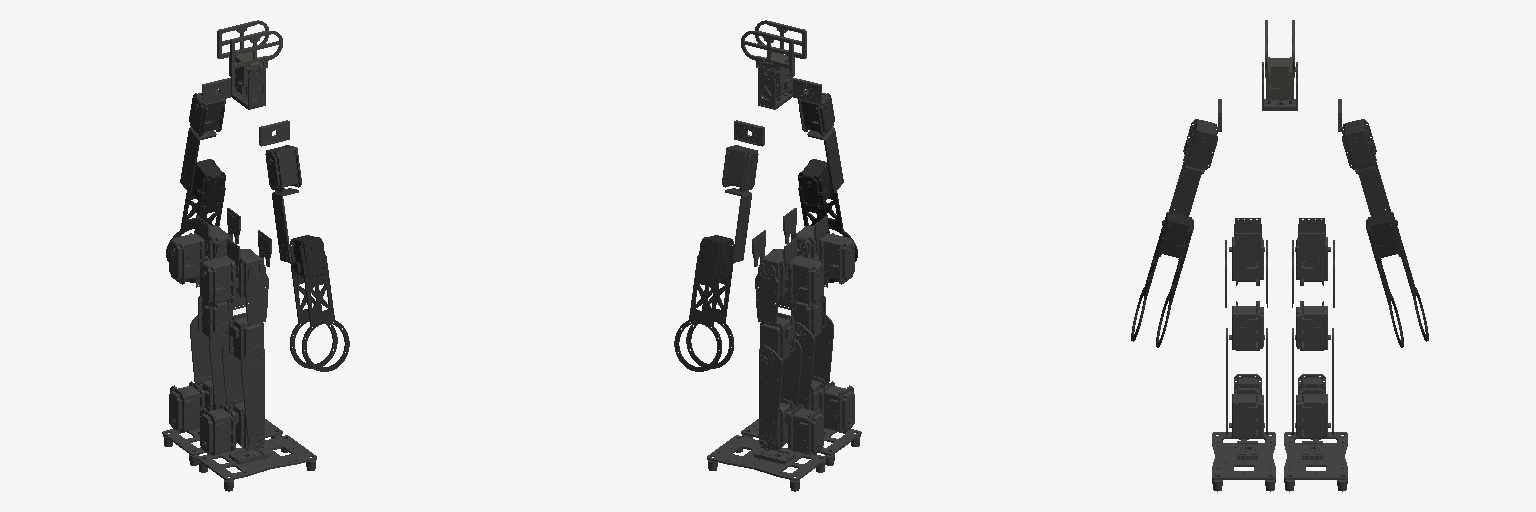
--- What the picture shows (computed from the rendered views, not written in the file) ---
3 views of the same robot in one strip: view 1: azimuth 30°, elevation 25°; view 2: azimuth 150°, elevation 25°; view 3: azimuth 270°, elevation 25° (orthographic).
Robot: sigmaban — 34 links, 33 joints (20 revolute, 13 fixed); root link torso_2023; default pose: every joint at zero.
Links seen in each view (by area): view 1: radius_v2_2, tibia_2023_2, right_foot_, right_knee_2023, head_2023__field_of_view_false, right_humerus, radius_v2, mx106_block_mir_hip__list_mr67plvazplf9a_hip, mx106_block_ankle__list_0bj1pweadmbeeq_default, tibia_2023, left_humerus, mx106_block_hip__list_0bj1pweadmbeeq_hip (+8 smaller); view 2: radius_v2, tibia_2023, left_foot___list_t0v6opd9rekumc_default, left_knee_2023, head_2023__field_of_view_false, left_humerus, radius_v2_2, mx106_block_hip__list_0bj1pweadmbeeq_hip, mx106_block_mir_ankle, tibia_2023_2, right_humerus, mx106_block_mir_hip__list_mr67plvazplf9a_hip (+8 smaller); view 3: left_foot___list_t0v6opd9rekumc_default, right_foot_, left_humerus, right_humerus, radius_v2, radius_v2_2, mx106_block_mir_ankle, mx106_block_ankle__list_0bj1pweadmbeeq_default, left_knee_2023, right_knee_2023, head_2023__field_of_view_false, u_block_2023 (+4 smaller).
Boxes of the visible links, x1,y1,x2,y2 form: radius_v2_2: [290, 235, 349, 371]; tibia_2023_2: [222, 339, 264, 449]; right_foot_: [197, 435, 316, 491]; right_knee_2023: [227, 249, 268, 361]; head_2023__field_of_view_false: [217, 20, 282, 100]; right_humerus: [265, 145, 301, 262]; radius_v2: [166, 159, 225, 282]; mx106_block_mir_hip__list_mr67plvazplf9a_hip: [200, 249, 263, 306]; mx106_block_ankle__list_0bj1pweadmbeeq_default: [200, 398, 258, 455]; tibia_2023: [190, 315, 228, 409]; left_humerus: [180, 89, 225, 192]; mx106_block_hip__list_0bj1pweadmbeeq_hip: [169, 225, 232, 284]; radius_v2: [674, 235, 733, 371]; tibia_2023: [759, 339, 801, 449]; left_foot___list_t0v6opd9rekumc_default: [707, 435, 826, 491]; left_knee_2023: [755, 249, 796, 361]; head_2023__field_of_view_false: [741, 20, 806, 100]; left_humerus: [722, 145, 758, 262]; radius_v2_2: [798, 159, 857, 282]; mx106_block_hip__list_0bj1pweadmbeeq_hip: [760, 249, 823, 306]; mx106_block_mir_ankle: [765, 398, 823, 455]; tibia_2023_2: [795, 315, 833, 409]; right_humerus: [798, 89, 843, 192]; mx106_block_mir_hip__list_mr67plvazplf9a_hip: [791, 225, 854, 284]; left_foot___list_t0v6opd9rekumc_default: [1284, 432, 1347, 491]; right_foot_: [1212, 432, 1275, 491]; left_humerus: [1342, 119, 1390, 216]; right_humerus: [1169, 119, 1217, 216]; radius_v2: [1366, 212, 1428, 347]; radius_v2_2: [1131, 212, 1193, 347]; mx106_block_mir_ankle: [1295, 374, 1330, 438]; mx106_block_ankle__list_0bj1pweadmbeeq_default: [1229, 374, 1264, 438]; left_knee_2023: [1292, 240, 1334, 350]; right_knee_2023: [1225, 240, 1267, 350]; head_2023__field_of_view_false: [1265, 20, 1295, 103]; u_block_2023: [1299, 218, 1324, 263].
Size in the robot's own frame: 0.168 by 0.4293 by 0.7013 metres.
Meshes: 21 distinct files referenced, 20 mesh visuals loaded (20 binary STL); not drawn: 1 (reference not matched to a file when rendering).

robot.urdf — sigmaban:
<robot name="sigmaban">
<mujoco> <compiler fusestatic="false"/> </mujoco>

<link name="torso_2023">
<!-- Shapes for x_plate_23_front -->
<collision>
<origin xyz="0.060389204868665558035 1.4717405121993400189e-07 0.068082299999999984497" rpy="-1.5707963267948958919 1.0318754721533555292e-15 -1.570796326794896558" />
<geometry>
<box size="0.14499999999999999001 0.1155920000000000003 0.0060000000000000001249" />
</geometry>
</collision>
<!-- Shapes for mx-64at_ar -->
<collision>
<origin xyz="0.020939204868665975412 0.046400147174051414867 0.02200000000001074707" rpy="3.1415926535897691352 -1.3138215008622163751e-14 -1.570796326794896336" />
<geometry>
<box size="0.040199999999999999623 0.061100000000000001532 0.041000000000000001721" />
</geometry>
</collision>
<!-- Shapes for mx-64at_ar -->
<collision>
<origin xyz="0.020939204868666350112 -0.046399852825948745272 0.02200000000001099687" rpy="3.1415926535897495953 -1.2771348726224209355e-14 -1.5707963267949036634" />
<geometry>
<box size="0.040199999999999999623 0.061100000000000001532 0.041000000000000001721" />
</geometry>
</collision>
<!-- Shapes for mx-64at_ar -->
<collision>
<origin xyz="0.01583920486865465771 1.471740505627167706e-07 0.15700000000000038924" rpy="-2.0985643641962011544e-15 -2.5607325653630936744e-16 -1.570796326794896558" />
<geometry>
<box size="0.040199999999999999623 0.061100000000000001532 0.041000000000000001721" />
</geometry>
</collision>
<!-- Shapes for x_plate_23_front -->
<collision>
<origin xyz="-0.059610795131336914709 1.4717404883173641263e-07 0.071917699999998543903" rpy="1.5707963267948952257 7.9211561423418466212e-15 1.570796326794896558" />
<geometry>
<box size="0.14499999999999999001 0.1155920000000000003 0.0060000000000000001249" />
</geometry>
</collision>
<!-- Shapes for mx-64at_ar -->
<collision>
<origin xyz="0.010839204868674762183 0.056000147174040608433 0.16400000000000933276" rpy="-1.5707963267948805708 -1.5707963267948898967 0" />
<geometry>
<box size="0.040199999999999999623 0.061100000000000001532 0.041000000000000001721" />
</geometry>
</collision>
<!-- Shapes for mx-64at_ar -->
<collision>
<origin xyz="0.010839204868674713611 -0.055999852825940207857 0.16400000000001024869" rpy="1.5707963267948803487 1.5707963267948898967 0" />
<geometry>
<box size="0.040199999999999999623 0.061100000000000001532 0.041000000000000001721" />
</geometry>
</collision>
<visual>
<origin xyz="0 0 0" rpy="0 -0 0" />
<geometry>
<mesh filename="torso_2023_visual.stl"/>
</geometry>
<material name="torso_2023_material">
<color rgba="0.1989915035131896992 0.20531734779085586418 0.21164319206852200139 1.0"/>
</material>
</visual>
<inertial>
<origin xyz="0.0015648355792355680277 6.7326172377745458603e-05 0.070745013494479591643" rpy="0 0 0"/>
<mass value="3.275156416662882819" />
<inertia ixx="0.019938644668998903309" ixy="0.00017941416398604062153"  ixz="0.00023297474433931533158" iyy="0.018854191811137354512" iyz="-0.00022931010479271859547" izz="0.012649651833892626429" />
</inertial>
</link>

<link name="head_base">
<inertial>
<origin xyz="0 0 0" rpy="0 0 0" />
<mass value="1e-9" />
<inertia ixx="0" ixy="0" ixz="0" iyy="0" iyz="0" izz="0" />
</inertial>
</link>
<joint name="head_base_frame" type="fixed">
<origin xyz="0.033389204868654910607 1.4717405055631460442e-07 0.18300000000001087619" rpy="-1.2246467991473633145e-16 -2.2088105346187814874e-29 1.4393641492882479269e-28" />
<parent link="torso_2023" />
<child link="head_base" />
<axis xyz="0 0 0"/>
</joint>

<link name="trunk">
<inertial>
<origin xyz="0 0 0" rpy="0 0 0" />
<mass value="1e-9" />
<inertia ixx="0" ixy="0" ixz="0" iyy="0" iyz="0" izz="0" />
</inertial>
</link>
<joint name="trunk_frame" type="fixed">
<origin xyz="0.060889204868665502968 1.4717405119935517762e-07 0.0024999999999999996184" rpy="-8.2672622867162037207e-28 -0 -2.2402855000300105724e-59" />
<parent link="torso_2023" />
<child link="trunk" />
<axis xyz="0 0 0"/>
</joint>

<link name="u_neck">
<!-- Shapes for u_side_neck -->
<collision>
<origin xyz="0.024999999999999980571 1.9039197994973640794e-16 0.032901041851021120554" rpy="1.5707963267948976682 3.8555576742675836556e-29 -1.5707963267948958919" />
<geometry>
<box size="0.02999999999999999889 0.065802000000000013258 0.0030000000000000000625" />
</geometry>
</collision>
<!-- Shapes for u_side_neck -->
<collision>
<origin xyz="-0.024999999999999970163 -1.3321288525649692514e-17 0.032901041851021231577" rpy="1.570796326794896558 -1.1537090738856905291e-29 1.5707963267948970021" />
<geometry>
<box size="0.02999999999999999889 0.065802000000000013258 0.0030000000000000000625" />
</geometry>
</collision>
<!-- Shapes for u_base_64 -->
<collision>
<origin xyz="0 0 0.0031250000000000001735" rpy="3.141592653589793116 -0 -2.7345846813906869054e-32" />
<geometry>
<box size="0.049000000000000001887 0.02999999999999999889 0.0062500000000000003469" />
</geometry>
</collision>
<visual>
<origin xyz="0 0 0" rpy="0 -0 0" />
<geometry>
<mesh filename="u_neck_visual.stl"/>
</geometry>
<material name="u_neck_material">
<color rgba="0.30196078431372547213 0.30196078431372547213 0.30196078431372547213 1.0"/>
</material>
</visual>
<inertial>
<origin xyz="4.9752393097228002441e-18 5.2566512831789962461e-17 0.020633402679855913225" rpy="0 0 0"/>
<mass value="0.054479900613359222294" />
<inertia ixx="3.0578702573708504834e-05" ixy="-1.3594422668539657696e-11"  ixz="7.4115382884751279668e-20" iyy="5.1695196768450734476e-05" iyz="-1.3870164511289168052e-20" izz="2.9852490907290876406e-05" />
</inertial>
</link>

<link name="head_2023__field_of_view_false">
<!-- Shapes for head_plate_g_2023 -->
<collision>
<origin xyz="-0.0238000000000099729 0.036500000000010031365 -0.0049999999999899950864" rpy="-3.141592653589793116 9.2835736742051706507e-32 -3.141592653589793116" />
<geometry>
<cylinder length="0.0030000000000000000625" radius="0.023500000000000000056" />
</geometry>
</collision>
<collision>
<origin xyz="0.0099999999999900238135 0.036500000000010031365 -0.0049999999999899950864" rpy="-3.141592653589793116 9.2835736742051706507e-32 -3.141592653589793116" />
<geometry>
<box size="0.061600000000000001976 0.047000000000000000111 0.0030000000000000000625" />
</geometry>
</collision>
<!-- Shapes for head_plate_d_2023 -->
<collision>
<origin xyz="-0.023799999999999973954 0.036499999999999983846 -0.049000000000000001887" rpy="-3.141592653589793116 9.2835736742051706507e-32 -3.141592653589793116" />
<geometry>
<cylinder length="0.0030000000000000000625" radius="0.023500000000000000056" />
</geometry>
</collision>
<collision>
<origin xyz="0.01000000000000002276 0.036499999999999983846 -0.049000000000000001887" rpy="-3.141592653589793116 9.2835736742051706507e-32 -3.141592653589793116" />
<geometry>
<box size="0.061600000000000001976 0.047000000000000000111 0.0030000000000000000625" />
</geometry>
</collision>
<!-- Shapes for mx-64at_ar -->
<collision>
<origin xyz="-6.4717011221295137098e-33 -0.017550000000000003098 -0.023499999999999996586" rpy="-4.0588667713456232966e-32 -9.2835736742051706507e-32 3.6977854932378233042e-32" />
<geometry>
<box size="0.040199999999999999623 0.061100000000000001532 0.041000000000000001721" />
</geometry>
</collision>
<visual>
<origin xyz="0 0 0" rpy="0 -0 0" />
<geometry>
<mesh filename="head_2023__field_of_view_false_visual.stl"/>
</geometry>
<material name="head_2023__field_of_view_false_material">
<color rgba="0.32045575682762950098 0.31487383381853989439 0.29812806479127107462 1.0"/>
</material>
</visual>
<inertial>
<origin xyz="-0.00013983749463300954204 0.0039774654891464892789 -0.023375717796835469853" rpy="0 0 0"/>
<mass value="0.25726509819793869083" />
<inertia ixx="0.00025168424048600053673" ixy="5.0191177966145026165e-06"  ixz="6.2758237416004872282e-07" iyy="0.00010580107060652920782" iyz="3.6478758293029893322e-06" izz="0.00024599473978848055951" />
</inertial>
</link>

<link name="camera">
<inertial>
<origin xyz="0 0 0" rpy="0 0 0" />
<mass value="1e-9" />
<inertia ixx="0" ixy="0" ixz="0" iyy="0" iyz="0" izz="0" />
</inertial>
</link>
<joint name="camera_frame" type="fixed">
<origin xyz="-0.024933000004024159779 0.033500000000055624172 -0.023500000000000024342" rpy="3.1415926535897926719 1.5707963267948934494 0" />
<parent link="head_2023__field_of_view_false" />
<child link="camera" />
<axis xyz="0 0 0"/>
</joint>

<joint name="head_pitch" type="revolute">
<origin xyz="-0.023499999999999954953 -4.8572257327350598644e-17 0.058302041851021751961" rpy="1.570796326794896558 1.1537090738857285042e-29 -1.5707963267949005548" />
<parent link="u_neck" />
<child link="head_2023__field_of_view_false" />
<axis xyz="0 0 1"/>
<limit effort="10" velocity="6" lower="-0.785398163397448279" upper="1.570796326794896558"/>
<joint_properties friction="0.0"/>
</joint>

<joint name="head_yaw" type="revolute">
<origin xyz="0.033389204868654910607 1.4717405055617108527e-07 0.18050000000001084621" rpy="7.2164496600569305242e-16 -2.5607325488194868468e-16 -1.5707963267948958919" />
<parent link="torso_2023" />
<child link="u_neck" />
<axis xyz="0 0 1"/>
<limit effort="10" velocity="6" lower="-2.0943951023931952626" upper="2.0943951023931952626"/>
<joint_properties friction="0.0"/>
</joint>

<link name="u_shoulder_2023">
<!-- Shapes for u_base_64 -->
<collision>
<origin xyz="2.9143354396410359186e-16 2.7755575615628913511e-17 0.0071250000000000037262" rpy="-3.141592653589793116 1.6724317820075083247e-31 -2.4033544272240996515e-33" />
<geometry>
<box size="0.049000000000000001887 0.02999999999999999889 0.0062500000000000003469" />
</geometry>
</collision>
<visual>
<origin xyz="0 0 0" rpy="0 -0 0" />
<geometry>
<mesh filename="u_shoulder_2023_visual.stl"/>
</geometry>
<material name="u_shoulder_2023_material">
<color rgba="0.30196078431372547213 0.30196078431372547213 0.30196078431372547213 1.0"/>
</material>
</visual>
<inertial>
<origin xyz="1.8232168344783914634e-16 0.0036464153452487211779 0.021400275306226044375" rpy="0 0 0"/>
<mass value="0.075104257301521246126" />
<inertia ixx="3.3576612252240278344e-05" ixy="2.45704488381832511e-19"  ixz="-1.0100867896007531543e-19" iyy="5.6855013760483194411e-05" iyz="-1.6441190837762353295e-06" izz="4.5579632407482574292e-05" />
</inertial>
</link>

<link name="left_humerus">
<!-- Shapes for mx-64at_ar -->
<collision>
<origin xyz="5.1535325302692628554e-19 -0.017549999999999187777 -0.02350000000001000941" rpy="1.1349789930214285673e-16 7.4033329793110606974e-29 6.0880324679154251917e-17" />
<geometry>
<box size="0.040199999999999999623 0.061100000000000001532 0.041000000000000001721" />
</geometry>
</collision>
<!-- Shapes for humerus_plate -->
<collision>
<origin xyz="-9.8237390444566585757e-15 -0.10450000000001577471 -0.040000000000000250633" rpy="3.141592653589793116 9.9803458132119403788e-16 -1.5707963267948958919" />
<geometry>
<box size="0.10499999999999999611 0.02999999999999999889 0.0030000000000000000625" />
</geometry>
</collision>
<visual>
<origin xyz="0 0 0" rpy="0 -0 0" />
<geometry>
<mesh filename="left_humerus_visual.stl"/>
</geometry>
<material name="left_humerus_material">
<color rgba="0.26470081700903541622 0.26470081700903541622 0.26470081700903541622 1.0"/>
</material>
</visual>
<inertial>
<origin xyz="0.00034063685431862979203 -0.052268486590341223241 -0.026882157242683241832" rpy="0 0 0"/>
<mass value="0.24350225743978931581" />
<inertia ixx="0.00077073676321792153505" ixy="5.6780808115084161313e-06"  ixz="9.5781652228323994906e-07" iyy="8.4206620691435125122e-05" iyz="-5.8757422747890845406e-05" izz="0.0007520574846905521112" />
</inertial>
</link>

<link name="radius_v2">
<!-- Shapes for hand_2023 -->
<collision>
<origin xyz="2.3106516700011070498e-15 -0.14960000000000389653 -0.042000000000007142731" rpy="8.5789493427633097606e-16 -1.4393969514836101488e-14 -1.5707963267948807928" />
<geometry>
<cylinder length="0.0030000000000000000625" radius="0.040000000000000000833" />
</geometry>
</collision>
<collision>
<origin xyz="9.7418507733165615419e-16 -0.064975600000001590417 -0.042000000000008357037" rpy="8.5789493427633097606e-16 -1.4393969514836101488e-14 -1.5707963267948807928" />
<geometry>
<box size="0.099551199999999992474 0.041200000000000000511 0.0030000000000000000625" />
</geometry>
</collision>
<!-- Shapes for mx-64at_ar -->
<collision>
<origin xyz="2.6328800239494788571e-16 -0.017550000000000356981 -0.023500000000009312051" rpy="-1.4628061606333769143e-14 -1.72913973246405356e-15 -3.3085907960557563128e-24" />
<geometry>
<box size="0.040199999999999999623 0.061100000000000001532 0.041000000000000001721" />
</geometry>
</collision>
<!-- Shapes for hand_2023 -->
<collision>
<origin xyz="2.2343238370581275376e-15 -0.14960000000000436837 -0.0050000000000077760021" rpy="1.5801403290850097167e-15 -1.4137400195363193623e-14 -1.5707963267948807928" />
<geometry>
<cylinder length="0.0030000000000000000625" radius="0.040000000000000000833" />
</geometry>
</collision>
<collision>
<origin xyz="8.9785724466864041907e-16 -0.064975600000000355294 -0.0050000000000089729613" rpy="1.5801403290850097167e-15 -1.4137400195363193623e-14 -1.5707963267948807928" />
<geometry>
<box size="0.099551199999999992474 0.041200000000000000511 0.0030000000000000000625" />
</geometry>
</collision>
<visual>
<origin xyz="0 0 0" rpy="0 -0 0" />
<geometry>
<mesh filename="radius_v2_visual.stl"/>
</geometry>
<material name="radius_v2_material">
<color rgba="0.21421337674205656598 0.21421337674205656598 0.21421337674205656598 1.0"/>
</material>
</visual>
<inertial>
<origin xyz="7.9817140183367828263e-05 -0.055690458705458058264 -0.023433267774075318413" rpy="0 0 0"/>
<mass value="0.25684588818622827722" />
<inertia ixx="0.00093724061814984944117" ixy="-7.9268562208035292056e-07"  ixz="6.139564055294468462e-07" iyy="0.00013059673215064026642" iyz="1.978663300161534759e-06" izz="0.00094705350609366112033" />
</inertial>
</link>

<joint name="left_elbow" type="revolute">
<origin xyz="0.023499999999999049427 -0.14200000000002432898 -0.0024999999999903571579" rpy="1.1420760646645946157e-16 1.5707963267948905628 0" />
<parent link="left_humerus" />
<child link="radius_v2" />
<axis xyz="0 0 1"/>
<limit effort="10" velocity="6" lower="-2.7925268031909271649" upper="0.26179938779914940783"/>
<joint_properties friction="0.0"/>
</joint>

<joint name="left_shoulder_roll" type="revolute">
<origin xyz="0.02350000000000028802 0.030000000000000054401 0.030000000000000012768" rpy="-1.570796326794896336 -1.3089969389957472057 -1.5707963267948781283" />
<parent link="u_shoulder_2023" />
<child link="left_humerus" />
<axis xyz="0 0 1"/>
<limit effort="10" velocity="6" lower="-0.26179938779914940783" upper="1.3089969389957472057"/>
<joint_properties friction="0.0"/>
</joint>

<joint name="left_shoulder_pitch" type="revolute">
<origin xyz="0.02838920486867376608 0.079500147174041552178 0.16400000000000961031" rpy="-1.5707963267948972241 5.4610004281647751681e-16 -1.1318824364894941469e-14" />
<parent link="torso_2023" />
<child link="u_shoulder_2023" />
<axis xyz="0 0 1"/>
<limit effort="10" velocity="6" lower="-2.1816615649929120835" upper="2.1816615649929120835"/>
<joint_properties friction="0.0"/>
</joint>

<link name="u_shoulder_2023_2">
<!-- Shapes for u_base_64 -->
<collision>
<origin xyz="-6.0965844572341306327e-33 2.7755575615629246311e-17 -0.007125000000000017604" rpy="1.0710301291113360143e-28 2.523751638323538339e-31 -2.7117093615639733553e-31" />
<geometry>
<box size="0.049000000000000001887 0.02999999999999999889 0.0062500000000000003469" />
</geometry>
</collision>
<visual>
<origin xyz="0 0 0" rpy="0 -0 0" />
<geometry>
<mesh filename="u_shoulder_2023_2_visual.stl"/>
</geometry>
<material name="u_shoulder_2023_2_material">
<color rgba="0.30196078431372547213 0.30196078431372547213 0.30196078431372547213 1.0"/>
</material>
</visual>
<inertial>
<origin xyz="-8.9096950342566447563e-19 -0.0036464153452484215044 -0.021400275306226186622" rpy="0 0 0"/>
<mass value="0.075104257301521246126" />
<inertia ixx="3.3576612252239986965e-05" ixy="1.3539292266267956982e-20"  ixz="3.5089001584499433968e-21" iyy="5.6855013760483092767e-05" iyz="-1.6441190837762569288e-06" izz="4.557963240748243199e-05" />
</inertial>
</link>

<link name="right_humerus">
<!-- Shapes for humerus_plate -->
<collision>
<origin xyz="-2.2551405187698492227e-17 -0.10450000000000948808 -0.040000000000000042466" rpy="-3.1415926535897922278 9.604334409304415985e-16 -1.5707963267948972241" />
<geometry>
<box size="0.10499999999999999611 0.02999999999999999889 0.0030000000000000000625" />
</geometry>
</collision>
<!-- Shapes for mx-64at_ar -->
<collision>
<origin xyz="1.270652739318305808e-19 -0.017550000000000016975 -0.023499999999999996586" rpy="-1.7916779872509620224e-31 4.9939169036483919336e-31 -3.1007302914032570076e-17" />
<geometry>
<box size="0.040199999999999999623 0.061100000000000001532 0.041000000000000001721" />
</geometry>
</collision>
<visual>
<origin xyz="0 0 0" rpy="0 -0 0" />
<geometry>
<mesh filename="right_humerus_visual.stl"/>
</geometry>
<material name="right_humerus_material">
<color rgba="0.26470081700903541622 0.26470081700903541622 0.26470081700903541622 1.0"/>
</material>
</visual>
<inertial>
<origin xyz="-0.00017225481453279987282 -0.052268486158451560319 -0.026866891908496049607" rpy="0 0 0"/>
<mass value="0.2435022574397892603" />
<inertia ixx="0.0007707618315275926741" ixy="-7.1231336283564645489e-06"  ixz="1.2804627548291555793e-07" iyy="8.4252737154473183556e-05" iyz="-5.8783325637439840319e-05" izz="0.00075207849509710599043" />
</inertial>
</link>

<link name="radius_v2_2">
<!-- Shapes for hand_2023 -->
<collision>
<origin xyz="-1.0189765697887776311e-15 0.14960000000000850395 0.0050000000000102774733" rpy="3.1415926535897917837 1.5636190652210659677e-15 1.5707963267949021091" />
<geometry>
<cylinder length="0.0030000000000000000625" radius="0.040000000000000000833" />
</geometry>
</collision>
<collision>
<origin xyz="-5.6096077782891871578e-16 0.064975600000003658208 0.0050000000000104101797" rpy="3.1415926535897917837 1.5636190652210659677e-15 1.5707963267949021091" />
<geometry>
<box size="0.099551199999999992474 0.041200000000000000511 0.0030000000000000000625" />
</geometry>
</collision>
<!-- Shapes for hand_2023 -->
<collision>
<origin xyz="-8.6636253726624205175e-16 0.14960000000000844844 0.042000000000012110979" rpy="3.1415926535897922278 2.0442758469186439441e-15 1.5707963267949023312" />
<geometry>
<cylinder length="0.0030000000000000000625" radius="0.040000000000000000833" />
</geometry>
</collision>
<collision>
<origin xyz="-3.9190515277449251122e-16 0.064975600000003672085 0.042000000000012284451" rpy="3.1415926535897922278 2.0442758469186439441e-15 1.5707963267949023312" />
<geometry>
<box size="0.099551199999999992474 0.041200000000000000511 0.0030000000000000000625" />
</geometry>
</collision>
<!-- Shapes for mx-64at_ar -->
<collision>
<origin xyz="-1.1970008317875247656e-16 0.017550000000001033523 0.023500000000011313922" rpy="3.1415926535897913396 1.1729299448985399785e-17 3.1428563154296863991e-18" />
<geometry>
<box size="0.040199999999999999623 0.061100000000000001532 0.041000000000000001721" />
</geometry>
</collision>
<visual>
<origin xyz="0 0 0" rpy="0 -0 0" />
<geometry>
<mesh filename="radius_v2_2_visual.stl"/>
</geometry>
<material name="radius_v2_2_material">
<color rgba="0.21421337674205656598 0.21421337674205656598 0.21421337674205656598 1.0"/>
</material>
</visual>
<inertial>
<origin xyz="7.981714018216070467e-05 0.055690458705459910949 0.023433267774077819884" rpy="0 0 0"/>
<mass value="0.25684588818622816619" />
<inertia ixx="0.0009372406181499015913" ixy="7.9268562209457862715e-07"  ixz="-6.1395640552935060209e-07" iyy="0.00013059673215065002424" iyz="1.9786633001541312675e-06" izz="0.00094705350609373321977" />
</inertial>
</link>

<joint name="right_elbow" type="revolute">
<origin xyz="-0.02350000000000931899 -0.14200000000001897216 -0.0024999999999904057302" rpy="-3.141592653589793116 -1.5707963267948936714 0" />
<parent link="right_humerus" />
<child link="radius_v2_2" />
<axis xyz="0 0 1"/>
<limit effort="10" velocity="6" lower="-2.7925268031909271649" upper="0.26179938779914940783"/>
<joint_properties friction="0.0"/>
</joint>

<joint name="right_shoulder_roll" type="revolute">
<origin xyz="-0.023499999999989990701 -0.029999999999999943379 -0.030000000000000026645" rpy="1.570796326794896558 -1.3089969389957472057 -1.5707963267948921171" />
<parent link="u_shoulder_2023_2" />
<child link="right_humerus" />
<axis xyz="0 0 1"/>
<limit effort="10" velocity="6" lower="-1.3089969389957472057" upper="0.26179938779914940783"/>
<joint_properties friction="0.0"/>
</joint>

<joint name="right_shoulder_pitch" type="revolute">
<origin xyz="0.028389204868675101817 -0.079499852825939923417 0.16400000000001035971" rpy="1.5707963267914575312 6.7723604502158104352e-15 -3.1415926535897766847" />
<parent link="torso_2023" />
<child link="u_shoulder_2023_2" />
<axis xyz="0 0 1"/>
<limit effort="10" velocity="6" lower="-2.1816615649929120835" upper="2.1816615649929120835"/>
<joint_properties friction="0.0"/>
</joint>

<link name="u_block_2023">
<!-- Shapes for u_side_small_2023 -->
<collision>
<origin xyz="-0.031440000000000002667 0 -0.023750000000000010686" rpy="1.570796326794896558 1.5375480027067150408e-30 1.570796326794896558" />
<geometry>
<box size="0.037499999999999998612 0.047500000000000000555 0.0030000000000000000625" />
</geometry>
</collision>
<!-- Shapes for u_side_small_with_trace_2023 -->
<collision>
<origin xyz="0.021899999999999981981 6.9388939039072283776e-18 -0.023750000000000014155" rpy="-1.570796326794896558 4.7733392390613801031e-30 -1.5707963267948970021" />
<geometry>
<box size="0.037499999999999998612 0.047500000000000000555 0.0030000000000000000625" />
</geometry>
</collision>
<visual>
<origin xyz="0 0 0" rpy="0 -0 0" />
<geometry>
<mesh filename="u_block_2023_visual.stl"/>
</geometry>
<material name="u_block_2023_material">
<color rgba="0.30196078431372552764 0.30196078431372552764 0.30196078431372552764 1.0"/>
</material>
</visual>
<inertial>
<origin xyz="-0.0050953192241065571599 -8.4419506225231468697e-07 -0.0098513101413465805484" rpy="0 0 0"/>
<mass value="0.063013635376408722033" />
<inertia ixx="2.0269428345457467326e-05" ixy="1.5200724677905147079e-09"  ixz="-2.023932140462646351e-06" iyy="4.242656866493677134e-05" iyz="-2.0044169173988357712e-09" izz="3.5257506291535481555e-05" />
</inertial>
</link>

<link name="mx106_block_hip__list_0bj1pweadmbeeq_hip">
<!-- Shapes for mx106 -->
<collision>
<origin xyz="6.9388939039072245258e-18 -0.018050000000000003542 -0.025999999999999998807" rpy="4.4232993409402326246e-31 -1.0829362358345484462e-30 -1.5003599116030702926e-33" />
<geometry>
<box size="0.040199999999999999623 0.065099999999999991207 0.045999999999999999223" />
</geometry>
</collision>
<!-- Shapes for mx106 -->
<collision>
<origin xyz="-5.587197371426131568e-16 -0.018050000000003129513 0.023400000000023360447" rpy="4.5186077102243625071e-14 1.5707963267948559238 0" />
<geometry>
<box size="0.040199999999999999623 0.065099999999999991207 0.045999999999999999223" />
</geometry>
</collision>
<visual>
<origin xyz="0 0 0" rpy="0 -0 0" />
<geometry>
<mesh filename="mx106_block_hip__list_0bj1pweadmbeeq_hip_visual.stl"/>
</geometry>
<material name="mx106_block_hip__list_0bj1pweadmbeeq_hip_material">
<color rgba="0.30196078431372547213 0.30196078431372547213 0.30196078431372547213 1.0"/>
</material>
</visual>
<inertial>
<origin xyz="-0.00052516692186616454729 -0.015396401985203245905 0.0038277888729035540634" rpy="0 0 0"/>
<mass value="0.39709667579512258895" />
<inertia ixx="0.00042858306123093477778" ixy="2.0805509671368810993e-06"  ixz="4.1041475610358611124e-06" iyy="0.00037079320782765960805" iyz="-3.1142636673186421933e-05" izz="0.00018178880431223535955" />
</inertial>
</link>

<link name="left_knee_2023">
<!-- Shapes for mx106 -->
<collision>
<origin xyz="1.4913596831999887702e-16 0.12195000000002188811 -0.029500000000001705414" rpy="-1.2212453270869762219e-15 3.64326624424644987e-14 8.8149932579980472257e-15" />
<geometry>
<box size="0.040199999999999999623 0.065099999999999991207 0.045999999999999999223" />
</geometry>
</collision>
<!-- Shapes for u_side_femur_mir_2023 -->
<collision>
<origin xyz="7.3160900016631066617e-16 0.037249999999999887368 -0.056999999999998170186" rpy="3.1415926535897678029 8.0383616429810889004e-14 4.6345982414074165367e-14" />
<geometry>
<box size="0.02999999999999999889 0.096500000000000002442 0.0030000000000000000625" />
</geometry>
</collision>
<!-- Shapes for u_side_femur_2023 -->
<collision>
<origin xyz="4.3368086899420292916e-19 0.037250000000000005329 0.0015000000000000026333" rpy="0 -1.4191589699425682925e-32 0" />
<geometry>
<box size="0.02999999999999999889 0.096500000000000002442 0.0030000000000000000625" />
</geometry>
</collision>
<visual>
<origin xyz="0 0 0" rpy="0 -0 0" />
<geometry>
<mesh filename="left_knee_2023_visual.stl"/>
</geometry>
<material name="left_knee_2023_material">
<color rgba="0.30196078431372547213 0.30196078431372547213 0.30196078431372547213 1.0"/>
</material>
</visual>
<inertial>
<origin xyz="-3.0494550053121577383e-05 0.10061564187093975653 -0.029622786648481010119" rpy="0 0 0"/>
<mass value="0.26847272690346352109" />
<inertia ixx="0.00053925645022024357514" ixy="-1.3631373190137804101e-07"  ixz="5.8241303226778181552e-09" iyy="0.00012289105714449451243" iyz="1.5058327493549626962e-05" izz="0.00046181552279401692166" />
</inertial>
</link>

<link name="tibia_2023">
<!-- Shapes for tibia_plate_2023 -->
<collision>
<origin xyz="-0.0062131000000000009137 0.068950999999999998402 0.0015000000000000026333" rpy="-3.141592653589793116 1.4713170045275157975e-31 3.141592653589793116" />
<geometry>
<box size="0.04042620000000000241 0.1700990000000000002 0.0030000000000000000625" />
</geometry>
</collision>
<!-- Shapes for tibia_plate_2023 -->
<collision>
<origin xyz="-0.0062131000000001275485 0.068951000000002274359 -0.055939999999999795444" rpy="3.141592653589793116 2.953628240564971051e-31 -3.141592653589793116" />
<geometry>
<box size="0.04042620000000000241 0.1700990000000000002 0.0030000000000000000625" />
</geometry>
</collision>
<visual>
<origin xyz="0 0 0" rpy="0 -0 0" />
<geometry>
<mesh filename="tibia_2023_visual.stl"/>
</geometry>
<material name="tibia_2023_material">
<color rgba="0.30196078431372547213 0.30196078431372547213 0.30196078431372547213 1.0"/>
</material>
</visual>
<inertial>
<origin xyz="-0.0029619942214337505876 0.06314054434257244941 -0.026839813800166509999" rpy="0 0 0"/>
<mass value="0.11307719724589511412" />
<inertia ixx="0.00035180943614669511364" ixy="-6.4923421817825492723e-06"  ixz="2.0403709312578429582e-08" iyy="0.00010391794921028493206" iyz="-6.1996439046809369065e-08" izz="0.00027164029097416139951" />
</inertial>
</link>

<link name="mx106_block_mir_ankle">
<!-- Shapes for mx106 -->
<collision>
<origin xyz="-2.4835481882836499138e-15 0.018050000000000225586 -0.028500000000006839307" rpy="-1.0530465392209247395e-13 -2.3567953144620554086e-14 3.1415926535897851224" />
<geometry>
<box size="0.040199999999999999623 0.065099999999999991207 0.045999999999999999223" />
</geometry>
</collision>
<!-- Shapes for mx106 -->
<collision>
<origin xyz="0.049400000000019511637 0.018050000000001779898 -0.028500000000009691192" rpy="-3.1415926535897917837 1.5707963267948958919 0" />
<geometry>
<box size="0.040199999999999999623 0.065099999999999991207 0.045999999999999999223" />
</geometry>
</collision>
<visual>
<origin xyz="0 0 0" rpy="0 -0 0" />
<geometry>
<mesh filename="mx106_block_mir_ankle_visual.stl"/>
</geometry>
<material name="mx106_block_mir_ankle_material">
<color rgba="0.30196078431372547213 0.30196078431372547213 0.30196078431372547213 1.0"/>
</material>
</visual>
<inertial>
<origin xyz="0.019569546325788379076 0.015396401985194102177 -0.02902744472631435535" rpy="0 0 0"/>
<mass value="0.39709667579512264446" />
<inertia ixx="0.00018178785236498012402" ixy="-3.1147027124168096901e-05"  ixz="-4.0741771018149064068e-06" iyy="0.00037083367389992462479" iyz="-2.0892224411081638081e-06" izz="0.00042862447925065604113" />
</inertial>
</link>

<link name="left_foot___list_t0v6opd9rekumc_default">
<!-- Shapes for cleat -->
<collision>
<origin xyz="0.043500000000002883582 -0.053500000000002705114 -0.032129999999995370596" rpy="1.5707963267948901187 -2.9167640525074148081e-14 -3.8626551028816556689e-14" />
<geometry>
<cylinder length="0.016000000000000000333" radius="0.0080000000000000001665" />
</geometry>
</collision>
<!-- Shapes for u_base_motors_blocs -->
<collision>
<origin xyz="1.4571677198205179593e-15 -0.03687500000000079603 0.028170000000003289631" rpy="1.5707963267949351938 1.570796326794866804 0" />
<geometry>
<box size="0.052340000000000004576 0.02999999999999999889 0.0062500000000000003469" />
</geometry>
</collision>
<!-- Shapes for cleat -->
<collision>
<origin xyz="-0.032499999999997551681 -0.053499999999999818534 -0.032129999999997493898" rpy="1.5707963267948901187 -2.9167640525074148081e-14 -3.8626551028816556689e-14" />
<geometry>
<cylinder length="0.016000000000000000333" radius="0.0080000000000000001665" />
</geometry>
</collision>
<!-- Shapes for cleat -->
<collision>
<origin xyz="0.043499999999998789635 -0.053500000000001872447 0.10947000000000448039" rpy="-1.5707963267948901187 2.9167640525074148081e-14 3.1415926535897544802" />
<geometry>
<cylinder length="0.016000000000000000333" radius="0.0080000000000000001665" />
</geometry>
</collision>
<!-- Shapes for foot_plate -->
<collision>
<origin xyz="0.0055000000000009164822 -0.041500000000000925038 0.038670000000003486307" rpy="-1.5707963267949029973 -2.9122537714698807895e-14 -3.862655106405614715e-14" />
<geometry>
<box size="0.091999999999999998446 0.1575999999999999901 0.0030000000000000000625" />
</geometry>
</collision>
<!-- Shapes for cleat -->
<collision>
<origin xyz="-0.032500000000001520728 -0.053499999999998930356 0.10947000000000238484" rpy="-1.5707963267948901187 2.9167640525074148081e-14 3.1415926535897544802" />
<geometry>
<cylinder length="0.016000000000000000333" radius="0.0080000000000000001665" />
</geometry>
</collision>
<visual>
<origin xyz="0 0 0" rpy="0 -0 0" />
<geometry>
<mesh filename="left_foot___list_t0v6opd9rekumc_default_visual.stl"/>
</geometry>
<material name="left_foot___list_t0v6opd9rekumc_default_material">
<color rgba="0.30196078431372547213 0.30093481115542580762 0.2985408737860601458 1.0"/>
</material>
</visual>
<inertial>
<origin xyz="0.0045444467896919357036 -0.036554210534013815981 0.046646141434125931724" rpy="0 0 0"/>
<mass value="0.28185582496698080579" />
<inertia ixx="0.00071822426056174183337" ixy="2.5091093396115026619e-06"  ixz="-4.6415033481459236795e-06" iyy="0.00092244501368009279314" iyz="-1.4353691871045097886e-05" izz="0.00026531274718818537118" />
</inertial>
</link>

<link name="left_foot">
<inertial>
<origin xyz="0 0 0" rpy="0 0 0" />
<mass value="1e-9" />
<inertia ixx="0" ixy="0" ixz="0" iyy="0" iyz="0" izz="0" />
</inertial>
</link>
<joint name="left_foot_frame" type="fixed">
<origin xyz="0.003000000000001674938 -0.061500000000000831779 0.036170000000003560414" rpy="-1.5707963267949325292 -1.570796326794866804 0" />
<parent link="left_foot___list_t0v6opd9rekumc_default" />
<child link="left_foot" />
<axis xyz="0 0 0"/>
</joint>

<link name="left_ps_0">
<inertial>
<origin xyz="0 0 0" rpy="0 0 0" />
<mass value="1e-9" />
<inertia ixx="0" ixy="0" ixz="0" iyy="0" iyz="0" izz="0" />
</inertial>
</link>
<joint name="left_ps_0_frame" type="fixed">
<origin xyz="-0.032500000000001291744 -0.061499999999999999112 0.10947000000000527142" rpy="-1.5707963267949425212 -1.570796326794866804 0" />
<parent link="left_foot___list_t0v6opd9rekumc_default" />
<child link="left_ps_0" />
<axis xyz="0 0 0"/>
</joint>

<link name="left_ps_1">
<inertial>
<origin xyz="0 0 0" rpy="0 0 0" />
<mass value="1e-9" />
<inertia ixx="0" ixy="0" ixz="0" iyy="0" iyz="0" izz="0" />
</inertial>
</link>
<joint name="left_ps_1_frame" type="fixed">
<origin xyz="-0.032499999999997197797 -0.061500000000000942801 -0.032129999999995828563" rpy="-1.5707963267949387465 -1.570796326794866804 0" />
<parent link="left_foot___list_t0v6opd9rekumc_default" />
<child link="left_ps_1" />
<axis xyz="0 0 0"/>
</joint>

<link name="left_ps_2">
<inertial>
<origin xyz="0 0 0" rpy="0 0 0" />
<mass value="1e-9" />
<inertia ixx="0" ixy="0" ixz="0" iyy="0" iyz="0" izz="0" />
</inertial>
</link>
<joint name="left_ps_2_frame" type="fixed">
<origin xyz="0.043500000000002099487 -0.06150000000000377387 -0.032129999999993760773" rpy="-1.5707963267949387465 -1.570796326794866804 0" />
<parent link="left_foot___list_t0v6opd9rekumc_default" />
<child link="left_ps_2" />
<axis xyz="0 0 0"/>
</joint>

<link name="left_ps_3">
<inertial>
<origin xyz="0 0 0" rpy="0 0 0" />
<mass value="1e-9" />
<inertia ixx="0" ixy="0" ixz="0" iyy="0" iyz="0" izz="0" />
</inertial>
</link>
<joint name="left_ps_3_frame" type="fixed">
<origin xyz="0.043499999999997894518 -0.061500000000002830181 0.10947000000000735309" rpy="-1.5707963267949436315 -1.570796326794866804 0" />
<parent link="left_foot___list_t0v6opd9rekumc_default" />
<child link="left_ps_3" />
<axis xyz="0 0 0"/>
</joint>

<joint name="left_ankle_roll" type="revolute">
<origin xyz="0.023400000000019464258 1.7763568394002504647e-15 -0.028500000000009864665" rpy="-1.3731090952941476011e-15 -1.5707963267948954478 0" />
<parent link="mx106_block_mir_ankle" />
<child link="left_foot___list_t0v6opd9rekumc_default" />
<axis xyz="0 0 1"/>
<limit effort="10" velocity="6" lower="-0.785398163397448279" upper="0.785398163397448279"/>
<joint_properties friction="0.0"/>
</joint>

<joint name="left_ankle_pitch" type="revolute">
<origin xyz="1.3877787807814456755e-17 0.14000000000000001332 1.3877787807814456755e-17" rpy="-4.5044050613495349813e-16 1.7248535108951566065e-30 3.141592653589793116" />
<parent link="tibia_2023" />
<child link="mx106_block_mir_ankle" />
<axis xyz="0 0 1"/>
<limit effort="10" velocity="6" lower="-1.570796326794896558" upper="1.570796326794896558"/>
<joint_properties friction="0.0"/>
</joint>

<joint name="left_knee" type="revolute">
<origin xyz="7.6197728682281251622e-16 0.14000000000002149614 -0.00099999999999096644832" rpy="-3.3306690077040597037e-16 1.8197249262996517094e-14 4.266444745766884715e-15" />
<parent link="left_knee_2023" />
<child link="tibia_2023" />
<axis xyz="0 0 1"/>
<limit effort="10" velocity="6" lower="-0" upper="3.141592653589793116"/>
<joint_properties friction="0.0"/>
</joint>

<joint name="left_hip_pitch" type="revolute">
<origin xyz="0.029500000000009969636 1.5820678100908480701e-15 0.023400000000016792784" rpy="3.1415926535897451544 -1.5707963267948954478 0" />
<parent link="mx106_block_hip__list_0bj1pweadmbeeq_hip" />
<child link="left_knee_2023" />
<axis xyz="0 0 1"/>
<limit effort="10" velocity="6" lower="-1.570796326794896558" upper="1.570796326794896558"/>
<joint_properties friction="0.0"/>
</joint>

<joint name="left_hip_roll" type="revolute">
<origin xyz="0.023399999999999983313 0 -0.040000000000000021649" rpy="1.570796326794896558 -4.8039640370581368107e-14 -1.5707963267949467401" />
<parent link="u_block_2023" />
<child link="mx106_block_hip__list_0bj1pweadmbeeq_hip" />
<axis xyz="0 0 1"/>
<limit effort="10" velocity="6" lower="-0.52359877559829881566" upper="0.61086523819801530344"/>
<joint_properties friction="0.0"/>
</joint>

<joint name="left_hip_yaw" type="revolute">
<origin xyz="0.0033892048686650078082 0.046400147174060754618 -0.021000000000001697864" rpy="4.8006866350193497818e-14 1.5262888187140617583e-14 -3.1415926535897269467" />
<parent link="torso_2023" />
<child link="u_block_2023" />
<axis xyz="0 0 1"/>
<limit effort="10" velocity="6" lower="-1.0471975511965976313" upper="1.0471975511965976313"/>
<joint_properties friction="0.0"/>
</joint>

<link name="u_block_2023_2">
<!-- Shapes for u_side_small_2023 -->
<collision>
<origin xyz="-0.031440000000000016545 -4.4408920985006261617e-16 -0.023750000000000093953" rpy="1.570796326794896558 6.2302052208490232145e-29 1.570796326794896558" />
<geometry>
<box size="0.037499999999999998612 0.047500000000000000555 0.0030000000000000000625" />
</geometry>
</collision>
<!-- Shapes for u_side_small_with_trace_2023 -->
<collision>
<origin xyz="0.021900000000000009737 -7.2858385991025897965e-17 -0.023750000000000003747" rpy="-1.570796326794896558 -2.3900689497800325527e-28 -1.5707963267948954478" />
<geometry>
<box size="0.037499999999999998612 0.047500000000000000555 0.0030000000000000000625" />
</geometry>
</collision>
<visual>
<origin xyz="0 0 0" rpy="0 -0 0" />
<geometry>
<mesh filename="u_block_2023_2_visual.stl"/>
</geometry>
<material name="u_block_2023_2_material">
<color rgba="0.30196078431372552764 0.30196078431372552764 0.30196078431372552764 1.0"/>
</material>
</visual>
<inertial>
<origin xyz="-0.0050953192241065866502 -8.4419506236626306475e-07 -0.0098513101413465978956" rpy="0 0 0"/>
<mass value="0.063013635376408722033" />
<inertia ixx="2.0269428345457751929e-05" ixy="1.5200724676722477326e-09"  ixz="-2.0239321404627314779e-06" iyy="4.2426568664937096601e-05" iyz="-2.0044169174507363915e-09" izz="3.525750629153567129e-05" />
</inertial>
</link>

<link name="mx106_block_mir_hip__list_mr67plvazplf9a_hip">
<!-- Shapes for mx106 -->
<collision>
<origin xyz="-7.4674271126216997816e-36 -0.018050000000000007011 -0.025999999999999995337" rpy="-3.7507374077580842329e-31 -9.4629504151230498367e-32 6.120941986080199262e-32" />
<geometry>
<box size="0.040199999999999999623 0.065099999999999991207 0.045999999999999999223" />
</geometry>
</collision>
<!-- Shapes for mx106 -->
<collision>
<origin xyz="2.2656388159760541343e-15 -0.01804999999999988558 0.023400000000012195767" rpy="1.5720758028692198942e-13 -1.5707963267948590325 0" />
<geometry>
<box size="0.040199999999999999623 0.065099999999999991207 0.045999999999999999223" />
</geometry>
</collision>
<visual>
<origin xyz="0 0 0" rpy="0 -0 0" />
<geometry>
<mesh filename="mx106_block_mir_hip__list_mr67plvazplf9a_hip_visual.stl"/>
</geometry>
<material name="mx106_block_mir_hip__list_mr67plvazplf9a_hip_material">
<color rgba="0.30196078431372547213 0.30196078431372547213 0.30196078431372547213 1.0"/>
</material>
</visual>
<inertial>
<origin xyz="0.00052744471950870940816 -0.015396401985192934708 0.0038306435570964812547" rpy="0 0 0"/>
<mass value="0.39709667579512253344" />
<inertia ixx="0.00042862743154850450628" ixy="-2.0892223995381237207e-06"  ixz="-4.0720577259059815783e-06" iyy="0.00037083662634951943546" iyz="-3.1148188041904293559e-05" izz="0.00018178785251672928847" />
</inertial>
</link>

<link name="right_knee_2023">
<!-- Shapes for u_side_femur_2023 -->
<collision>
<origin xyz="-1.2523106465936289283e-32 -0.037250000000000005329 -0.0015000000000000021996" rpy="3.141592653589793116 1.1020642437898762828e-29 3.0330127149397062781e-31" />
<geometry>
<box size="0.02999999999999999889 0.096500000000000002442 0.0030000000000000000625" />
</geometry>
</collision>
<!-- Shapes for u_side_femur_mir_2023 -->
<collision>
<origin xyz="2.3679700851343809601e-15 -0.037249999999998291422 0.057000000000000765332" rpy="-1.5521415202872817398e-14 4.3139103400591232513e-14 -2.7929047963232021583e-15" />
<geometry>
<box size="0.02999999999999999889 0.096500000000000002442 0.0030000000000000000625" />
</geometry>
</collision>
<!-- Shapes for mx106 -->
<collision>
<origin xyz="3.2510248832152038083e-16 -0.12195000000002542695 0.029499999999993274657" rpy="-3.1415926535897722438 3.1467883854219425843e-14 3.4635488921353952811e-14" />
<geometry>
<box size="0.040199999999999999623 0.065099999999999991207 0.045999999999999999223" />
</geometry>
</collision>
<visual>
<origin xyz="0 0 0" rpy="0 -0 0" />
<geometry>
<mesh filename="right_knee_2023_visual.stl"/>
</geometry>
<material name="right_knee_2023_material">
<color rgba="0.30196078431372541662 0.30196078431372541662 0.30196078431372541662 1.0"/>
</material>
</visual>
<inertial>
<origin xyz="-3.0494550052434799681e-05 -0.10061564187094176881 0.029608941233490337908" rpy="0 0 0"/>
<mass value="0.26847272690346346558" />
<inertia ixx="0.00053925731157976092463" ixy="1.3631373190071542302e-07"  ixz="-5.7107785364412577752e-09" iyy="0.00012289191850397730298" iyz="1.5089609413220713563e-05" izz="0.00046181552279405080298" />
</inertial>
</link>

<link name="tibia_2023_2">
<!-- Shapes for tibia_plate_2023 -->
<collision>
<origin xyz="-0.0062130999999911512219 0.068950999999997167333 0.055939999999994008406" rpy="-3.141592653589733164 -3.3029134982598432321e-14 -3.1415926535897917837" />
<geometry>
<box size="0.04042620000000000241 0.1700990000000000002 0.0030000000000000000625" />
</geometry>
</collision>
<!-- Shapes for tibia_plate_2023 -->
<collision>
<origin xyz="-0.0062131000000000009137 0.068951000000000040036 -0.0015000000000000004649" rpy="-3.141592653589793116 7.2105090570174107409e-30 3.141592653589793116" />
<geometry>
<box size="0.04042620000000000241 0.1700990000000000002 0.0030000000000000000625" />
</geometry>
</collision>
<visual>
<origin xyz="0 0 0" rpy="0 -0 0" />
<geometry>
<mesh filename="tibia_2023_2_visual.stl"/>
</geometry>
<material name="tibia_2023_2_material">
<color rgba="0.30196078431372547213 0.30196078431372547213 0.30196078431372547213 1.0"/>
</material>
</visual>
<inertial>
<origin xyz="-0.0029619908404728469836 0.063140565164623296823 0.02683982313489245014" rpy="0 0 0"/>
<mass value="0.11307719724589511412" />
<inertia ixx="0.00035180944356699760459" ixy="-6.4923416167470600363e-06"  ixz="-2.0382960514664992692e-08" iyy="0.00010391794947023660597" iyz="6.2118917254755235858e-08" izz="0.00027164029740908127077" />
</inertial>
</link>

<link name="mx106_block_ankle__list_0bj1pweadmbeeq_default">
<!-- Shapes for mx106 -->
<collision>
<origin xyz="2.6020852139652078683e-17 -0.018050000000000059053 0.028500000000009934054" rpy="-3.141592653589793116 3.6923810532281155798e-30 3.141592653589793116" />
<geometry>
<box size="0.040199999999999999623 0.065099999999999991207 0.045999999999999999223" />
</geometry>
</collision>
<!-- Shapes for mx106 -->
<collision>
<origin xyz="-0.049400000000020066748 -0.018050000000000065992 0.028500000000009961809" rpy="-9.2644238962482660418e-23 1.570796326794896558 0" />
<geometry>
<box size="0.040199999999999999623 0.065099999999999991207 0.045999999999999999223" />
</geometry>
</collision>
<visual>
<origin xyz="0 0 0" rpy="0 -0 0" />
<geometry>
<mesh filename="mx106_block_ankle__list_0bj1pweadmbeeq_default_visual.stl"/>
</geometry>
<material name="mx106_block_ankle__list_0bj1pweadmbeeq_default_material">
<color rgba="0.30196078431372547213 0.30196078431372547213 0.30196078431372547213 1.0"/>
</material>
</visual>
<inertial>
<origin xyz="-0.019572401009989255638 -0.015396401985201096582 0.029025166915077664498" rpy="0 0 0"/>
<mass value="0.39709667579512258895" />
<inertia ixx="0.0001817888044639689657" ixy="-3.114147575544976449e-05"  ixz="-4.1062666594566306371e-06" iyy="0.00037079025525090582608" iyz="-2.080550925575799656e-06" izz="0.0004285801085024416434" />
</inertial>
</link>

<link name="right_foot_">
<!-- Shapes for u_base_motors_blocs -->
<collision>
<origin xyz="3.2092384305570931247e-16 -0.036875000000001469103 0.028170000000003178608" rpy="1.5707963267949054398 1.570796326794841713 0" />
<geometry>
<box size="0.052340000000000004576 0.02999999999999999889 0.0062500000000000003469" />
</geometry>
</collision>
<!-- Shapes for cleat -->
<collision>
<origin xyz="-0.043499999999999268419 -0.05349999999999777156 -0.03212999999999829881" rpy="1.5707963267949540676 -7.1539996149285102295e-15 -8.1771603261397814136e-15" />
<geometry>
<cylinder length="0.016000000000000000333" radius="0.0080000000000000001665" />
</geometry>
</collision>
<!-- Shapes for foot_plate -->
<collision>
<origin xyz="-0.005499999999999791514 -0.041500000000002035261 0.038670000000002889562" rpy="-1.5707963267948399366 -7.9797279894934909169e-15 -8.9151391897941823389e-15" />
<geometry>
<box size="0.091999999999999998446 0.1575999999999999901 0.0030000000000000000625" />
</geometry>
</collision>
<!-- Shapes for cleat -->
<collision>
<origin xyz="0.032500000000000771327 -0.053499999999998382183 -0.03212999999999785472" rpy="1.5707963267949540676 -7.1539996149285102295e-15 -8.1771603261397814136e-15" />
<geometry>
<cylinder length="0.016000000000000000333" radius="0.0080000000000000001665" />
</geometry>
</collision>
<!-- Shapes for cleat -->
<collision>
<origin xyz="-0.043500000000000350886 -0.053500000000005654144 0.10947000000000201014" rpy="-1.5707963267949540676 7.1539996149284928746e-15 3.1415926535897851224" />
<geometry>
<cylinder length="0.016000000000000000333" radius="0.0080000000000000001665" />
</geometry>
</collision>
<!-- Shapes for cleat -->
<collision>
<origin xyz="0.032499999999999605593 -0.053500000000006320278 0.1094700000000025375" rpy="-1.5707963267949540676 7.1539996149284928746e-15 3.1415926535897851224" />
<geometry>
<cylinder length="0.016000000000000000333" radius="0.0080000000000000001665" />
</geometry>
</collision>
<visual>
<origin xyz="0 0 0" rpy="0 -0 0" />
<geometry>
<mesh filename="right_foot__visual.stl"/>
</geometry>
<material name="right_foot__material">
<color rgba="0.30196078431372541662 0.3009348111554257521 0.29854087378606020131 1.0"/>
</material>
</visual>
<inertial>
<origin xyz="-0.0045443948701719416583 -0.036554210534015411926 0.046646141434125543146" rpy="0 0 0"/>
<mass value="0.2818558249669808613" />
<inertia ixx="0.00071822426056174313441" ixy="-2.5093325733320646032e-06"  ixz="4.6417350201812976015e-06" iyy="0.00092244498505176370211" iyz="-1.4353691871003647481e-05" izz="0.00026531271855985042547" />
</inertial>
</link>

<link name="right_foot">
<inertial>
<origin xyz="0 0 0" rpy="0 0 0" />
<mass value="1e-9" />
<inertia ixx="0" ixy="0" ixz="0" iyy="0" iyz="0" izz="0" />
</inertial>
</link>
<joint name="right_foot_frame" type="fixed">
<origin xyz="-0.0029999999999994059197 -0.061500000000001553424 0.03617000000000183263" rpy="-1.5707963267949054398 -1.5707963267948401587 0" />
<parent link="right_foot_" />
<child link="right_foot" />
<axis xyz="0 0 0"/>
</joint>

<link name="right_ps_0">
<inertial>
<origin xyz="0 0 0" rpy="0 0 0" />
<mass value="1e-9" />
<inertia ixx="0" ixy="0" ixz="0" iyy="0" iyz="0" izz="0" />
</inertial>
</link>
<joint name="right_ps_0_frame" type="fixed">
<origin xyz="-0.043500000000000392519 -0.061500000000005605738 0.10947000000000157993" rpy="-1.5707963267949072161 -1.5707963267948401587 0" />
<parent link="right_foot_" />
<child link="right_ps_0" />
<axis xyz="0 0 0"/>
</joint>

<link name="right_ps_1">
<inertial>
<origin xyz="0 0 0" rpy="0 0 0" />
<mass value="1e-9" />
<inertia ixx="0" ixy="0" ixz="0" iyy="0" iyz="0" izz="0" />
</inertial>
</link>
<joint name="right_ps_1_frame" type="fixed">
<origin xyz="-0.04349999999999932393 -0.061499999999997778666 -0.032129999999998770654" rpy="-1.5707963267949056618 -1.5707963267948399366 0" />
<parent link="right_foot_" />
<child link="right_ps_1" />
<axis xyz="0 0 0"/>
</joint>

<link name="right_ps_2">
<inertial>
<origin xyz="0 0 0" rpy="0 0 0" />
<mass value="1e-9" />
<inertia ixx="0" ixy="0" ixz="0" iyy="0" iyz="0" izz="0" />
</inertial>
</link>
<joint name="right_ps_2_frame" type="fixed">
<origin xyz="0.032500000000000715816 -0.061499999999998333777 -0.03212999999999829881" rpy="-1.5707963267949072161 -1.5707963267948399366 0" />
<parent link="right_foot_" />
<child link="right_ps_2" />
<axis xyz="0 0 0"/>
</joint>

<link name="right_ps_3">
<inertial>
<origin xyz="0 0 0" rpy="0 0 0" />
<mass value="1e-9" />
<inertia ixx="0" ixy="0" ixz="0" iyy="0" iyz="0" izz="0" />
</inertial>
</link>
<joint name="right_ps_3_frame" type="fixed">
<origin xyz="0.032499999999999550082 -0.061500000000006327383 0.10947000000000207953" rpy="-1.5707963267949047736 -1.5707963267948401587 0" />
<parent link="right_foot_" />
<child link="right_ps_3" />
<axis xyz="0 0 0"/>
</joint>

<joint name="right_ankle_roll" type="revolute">
<origin xyz="-0.023400000000022520841 0 0.028500000000009961809" rpy="-3.141592653589793116 -1.5707963267948803487 0" />
<parent link="mx106_block_ankle__list_0bj1pweadmbeeq_default" />
<child link="right_foot_" />
<axis xyz="0 0 1"/>
<limit effort="10" velocity="6" lower="-0.785398163397448279" upper="0.785398163397448279"/>
<joint_properties friction="0.0"/>
</joint>

<joint name="right_ankle_pitch" type="revolute">
<origin xyz="1.3444106938820254982e-17 0.14000000000000001332 0" rpy="-2.2999513674700879532e-15 -8.9962181524102428909e-31 -2.2983705748767555774e-30" />
<parent link="tibia_2023_2" />
<child link="mx106_block_ankle__list_0bj1pweadmbeeq_default" />
<axis xyz="0 0 1"/>
<limit effort="10" velocity="6" lower="-1.570796326794896558" upper="1.570796326794896558"/>
<joint_properties friction="0.0"/>
</joint>

<joint name="right_knee" type="revolute">
<origin xyz="4.8919202022545960062e-16 -0.14000000000002205125 0.00099999999998869049112" rpy="1.6827403746079293233e-14 7.0499162063697882079e-15 -3.1415926535897873428" />
<parent link="right_knee_2023" />
<child link="tibia_2023_2" />
<axis xyz="0 0 1"/>
<limit effort="10" velocity="6" lower="0" upper="3.141592653589793116"/>
<joint_properties friction="0.0"/>
</joint>

<joint name="right_hip_pitch" type="revolute">
<origin xyz="-0.02950000000000863043 -2.1718737919229624822e-15 0.023400000000011952905" rpy="-7.6577731246432181099e-14 1.5707963267948612529 0" />
<parent link="mx106_block_mir_hip__list_mr67plvazplf9a_hip" />
<child link="right_knee_2023" />
<axis xyz="0 0 1"/>
<limit effort="10" velocity="6" lower="-1.570796326794896558" upper="1.570796326794896558"/>
<joint_properties friction="0.0"/>
</joint>

<joint name="right_hip_roll" type="revolute">
<origin xyz="0.023400000000000007599 -6.9388939039072283776e-17 -0.040000000000000021649" rpy="1.570796326794896558 -4.4157341147604322877e-14 -1.5707963267949638375" />
<parent link="u_block_2023_2" />
<child link="mx106_block_mir_hip__list_mr67plvazplf9a_hip" />
<axis xyz="0 0 1"/>
<limit effort="10" velocity="6" lower="-0.61086523819801530344" upper="0.52359877559829881566"/>
<joint_properties friction="0.0"/>
</joint>

<joint name="right_hip_yaw" type="revolute">
<origin xyz="0.0033892048686646053524 -0.046399852825939162659 -0.021000000000002325834" rpy="4.4413414402485909771e-14 -4.3542599736725639165e-15 -3.1415926535897256144" />
<parent link="torso_2023" />
<child link="u_block_2023_2" />
<axis xyz="0 0 1"/>
<limit effort="10" velocity="6" lower="-1.0471975511965976313" upper="1.0471975511965976313"/>
<joint_properties friction="0.0"/>
</joint>


</robot>
